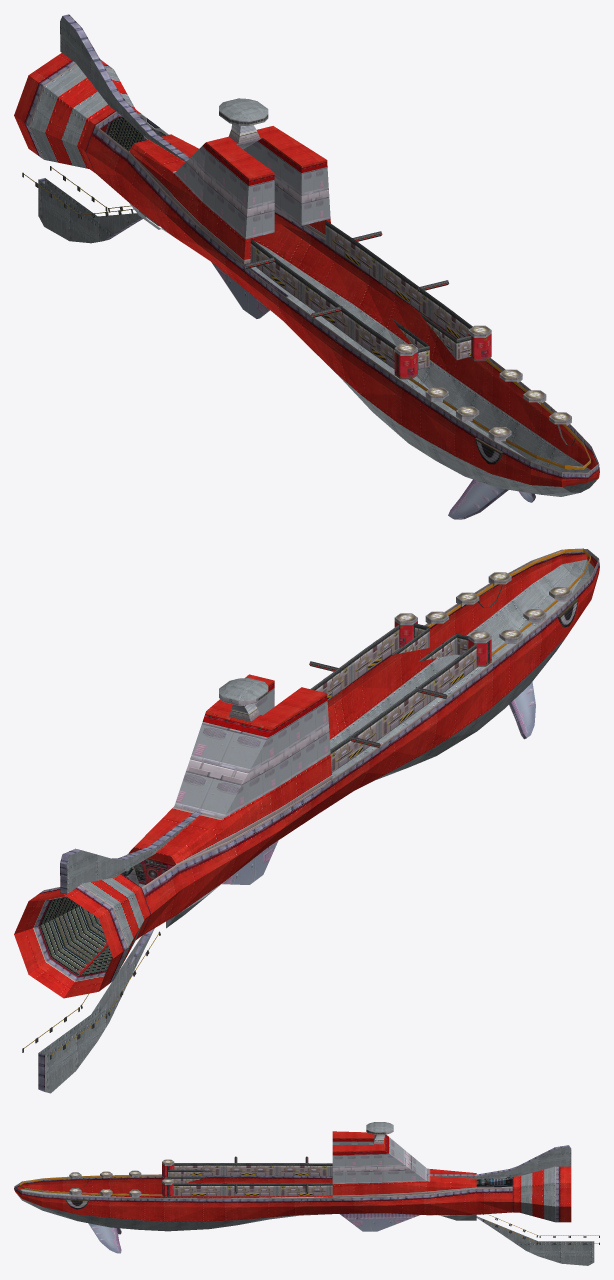
3 views of the same model, one above another, from view 1: azimuth 30°, elevation 25°; view 2: azimuth 150°, elevation 25°; view 3: azimuth 270°, elevation 25° (orthographic). The views are drawn at different scales.
Visible parts, largest first — view 1: s13_on_03_2, s13_on_03_8, s13_on_03_6, s13_on_03_5, s13_on_03_11, s13_on_03_12, s13_on_03_9, s13_on_03_7, s13_on_03_15, s13_on_03_17, s13_on_03_1, s13_on_03_16 (+1 smaller); view 2: s13_on_03_2, s13_on_03_8, s13_on_03_6, s13_on_03_5, s13_on_03_3, s13_on_03_11, s13_on_03_12, s13_on_03_1, s13_on_03_9, s13_on_03_7, s13_on_03_17, s13_on_03_15 (+1 smaller); view 3: s13_on_03_2, s13_on_03_8, s13_on_03_5, s13_on_03_6, s13_on_03_11, s13_on_03_12, s13_on_03_9, s13_on_03_7, s13_on_03_4, s13_on_03_17, s13_on_03_1, s13_on_03_15 (+2 smaller).
Boxes of the visible parts, box(x1,y1,x2,y2) form: s13_on_03_2: box(14, 14, 599, 486); s13_on_03_8: box(38, 16, 598, 496); s13_on_03_6: box(130, 138, 330, 239); s13_on_03_5: box(250, 220, 472, 369); s13_on_03_11: box(29, 64, 135, 168); s13_on_03_12: box(211, 262, 535, 519); s13_on_03_9: box(231, 124, 590, 469); s13_on_03_7: box(202, 138, 327, 185); s13_on_03_15: box(394, 334, 491, 379); s13_on_03_17: box(426, 369, 571, 435); s13_on_03_1: box(22, 166, 449, 317); s13_on_03_16: box(425, 374, 571, 441); s13_on_03_2: box(14, 549, 599, 1093); s13_on_03_8: box(38, 559, 594, 1093); s13_on_03_6: box(128, 688, 330, 927); s13_on_03_5: box(310, 623, 477, 772); s13_on_03_3: box(40, 897, 112, 976); s13_on_03_11: box(52, 877, 145, 978); s13_on_03_12: box(222, 682, 535, 884); s13_on_03_1: box(22, 661, 447, 1059); s13_on_03_9: box(219, 548, 590, 713); s13_on_03_7: box(202, 681, 327, 737); s13_on_03_17: box(426, 572, 571, 638); s13_on_03_15: box(394, 621, 491, 666); s13_on_03_2: box(14, 1131, 571, 1222); s13_on_03_8: box(16, 1122, 594, 1265); s13_on_03_5: box(168, 1163, 332, 1196); s13_on_03_6: box(332, 1137, 475, 1215); s13_on_03_11: box(519, 1166, 554, 1221); s13_on_03_12: box(88, 1213, 419, 1253); s13_on_03_9: box(19, 1129, 393, 1196); s13_on_03_7: box(332, 1134, 388, 1155); s13_on_03_4: box(476, 1176, 512, 1187); s13_on_03_17: box(69, 1170, 140, 1194); s13_on_03_1: box(234, 1156, 599, 1244); s13_on_03_15: box(162, 1164, 174, 1197).
Bounding box in the file's own units: 405 × 754 × 2848.
Materials: 16 (16 with a texture image).
